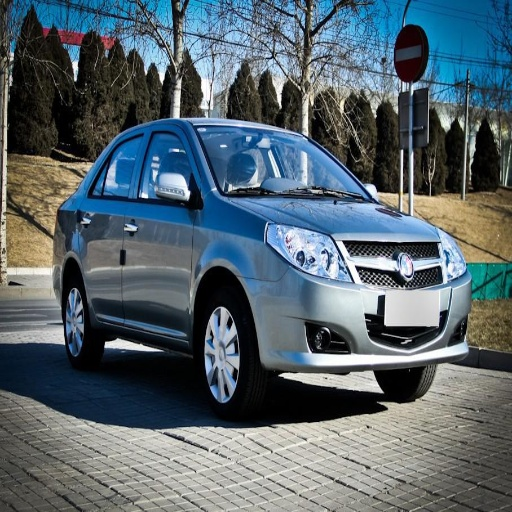front_bumper: (245, 238, 467, 372)
front_right_door: (123, 124, 197, 336)
front_right_light: (267, 225, 352, 281)
